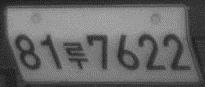1: (41, 34, 63, 70)
2: (137, 31, 167, 72), (162, 32, 192, 73)
6: (115, 32, 140, 71)
7: (85, 34, 111, 71)
8: (13, 33, 41, 71)
루: (62, 41, 89, 71)
